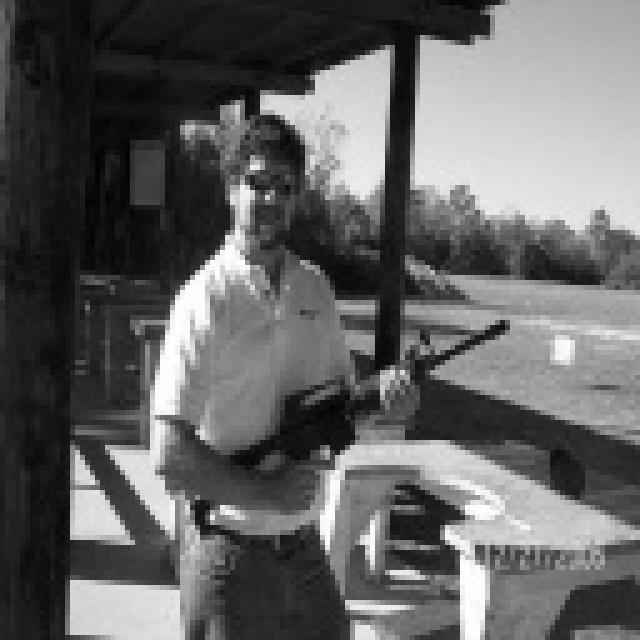Rifle: (145, 295, 546, 528)
